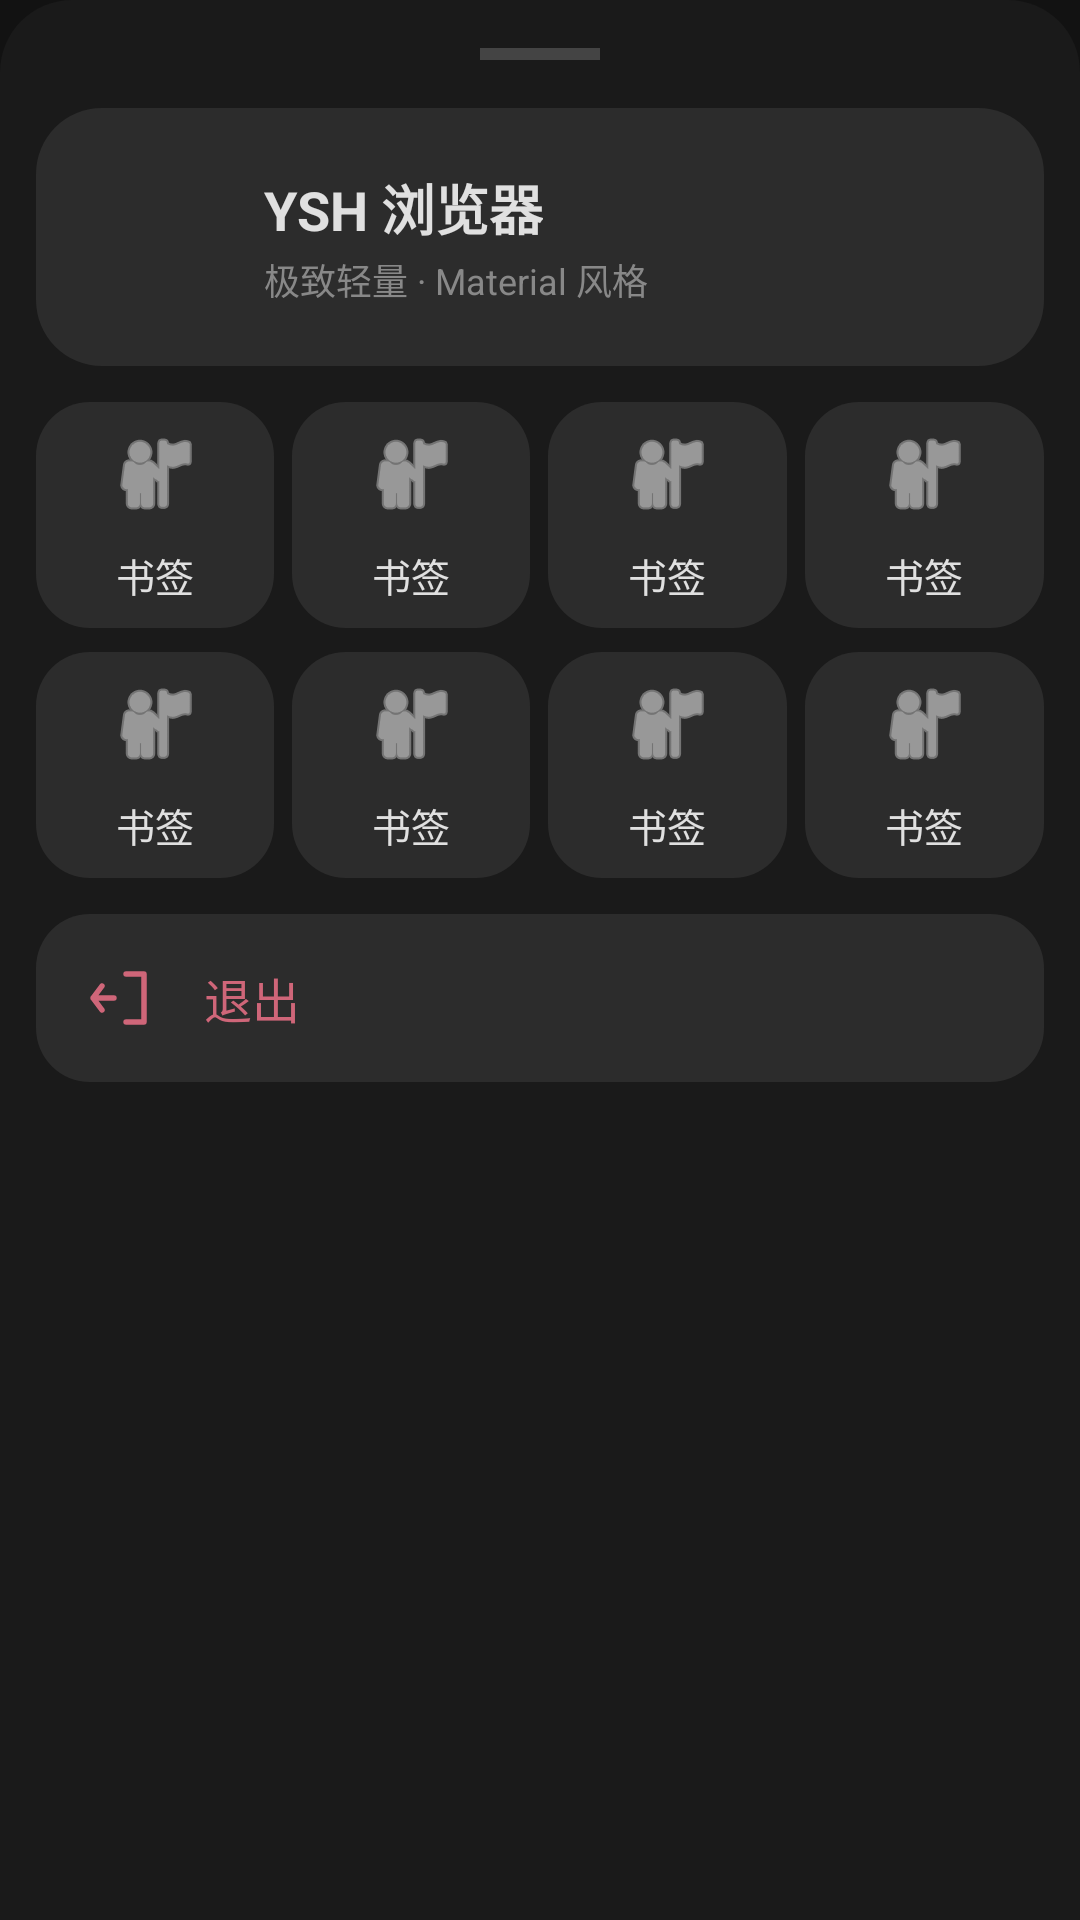

Screen size 1080 × 1920. Icon name, then its center in pixels as (x,y):
exit: (118,998)
myplaces: (156,474), (412,474), (668,474), (925,474), (156,724), (412,724), (668,724), (925,724)
